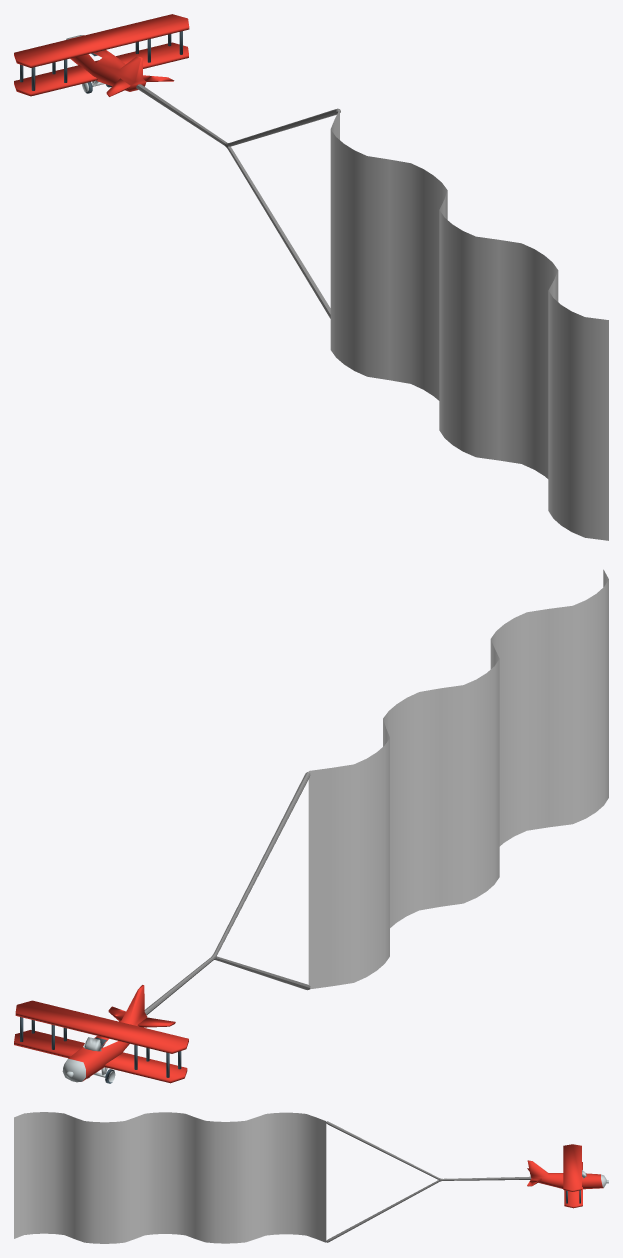
The model's file is planebillboard.glb.
The picture shows the model from 3 angles, top to bottom: view 1: azimuth 30°, elevation 25°; view 2: azimuth 150°, elevation 25°; view 3: azimuth 270°, elevation 25°; orthographic projection. The views are drawn at different scales.
Parts seen in each view (by area): view 1: Plane, Node, Vert.001; view 2: Plane, Node, Vert.001; view 3: Plane, Node, Vert.001.
Boxes of the visible parts, bbox=[...] form: Plane: bbox=[330, 109, 608, 540]; Node: bbox=[14, 14, 189, 96]; Vert.001: bbox=[136, 84, 340, 318]; Plane: bbox=[308, 569, 608, 989]; Node: bbox=[14, 985, 188, 1083]; Vert.001: bbox=[144, 772, 310, 1015]; Plane: bbox=[14, 1112, 326, 1243]; Node: bbox=[527, 1144, 608, 1208]; Vert.001: bbox=[326, 1121, 531, 1242].
Size of the model in its own units: 1.17 by 1.44 by 6.38.
